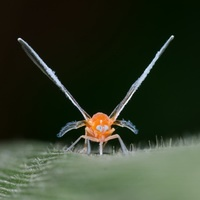insect: (17, 35, 173, 154)
